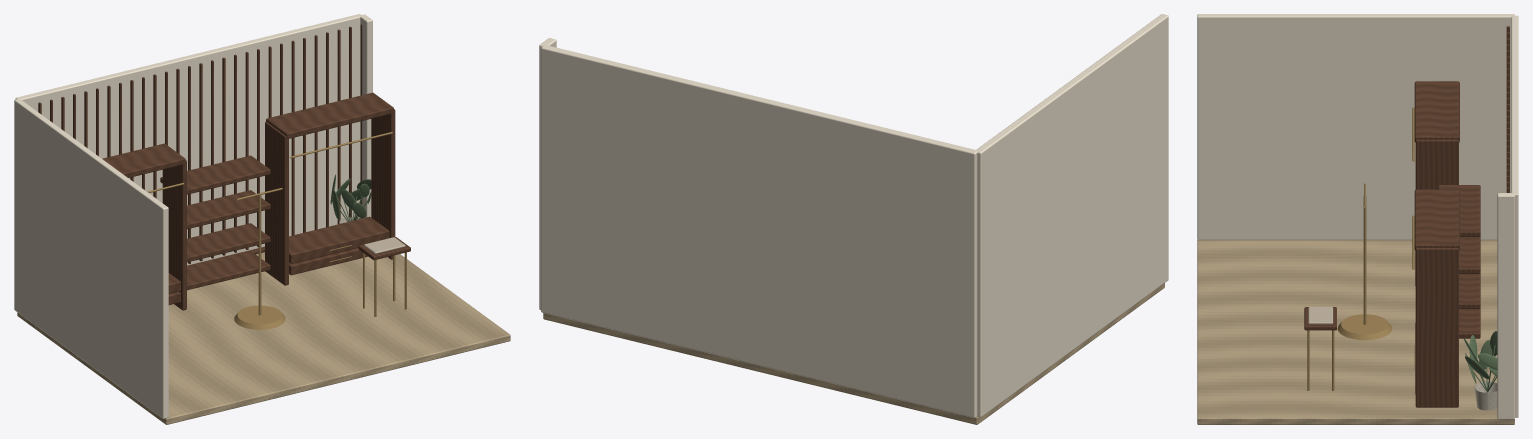
Rendered from room.glb.
3 views of the same model, side by side, from view 1: azimuth 30°, elevation 25°; view 2: azimuth 150°, elevation 25°; view 3: azimuth 270°, elevation 25° (orthographic). The views are drawn at different scales.
Parts seen in each view (by area): view 1: plaster, walnut_grain, ash_grain, aged_brass, leaf; view 2: plaster, ash_grain; view 3: plaster, ash_grain, walnut_grain, aged_brass, leaf, limestone, fabric_linen.
Boxes of the visible parts, x1,y1,x2,y2 form: plaster: [14, 14, 372, 418]; walnut_grain: [38, 24, 410, 310]; ash_grain: [17, 252, 510, 424]; aged_brass: [147, 132, 406, 329]; leaf: [330, 174, 371, 221]; plaster: [539, 14, 1168, 417]; ash_grain: [543, 283, 1164, 424]; plaster: [1197, 14, 1518, 419]; ash_grain: [1197, 240, 1514, 424]; walnut_grain: [1304, 26, 1509, 407]; aged_brass: [1307, 107, 1414, 390]; leaf: [1463, 331, 1497, 392]; limestone: [1474, 381, 1497, 410]; fabric_linen: [1308, 307, 1333, 324].
Size of the model in its own units: 4.89 by 2.89 by 3.64.
7 materials, 4 textured.
